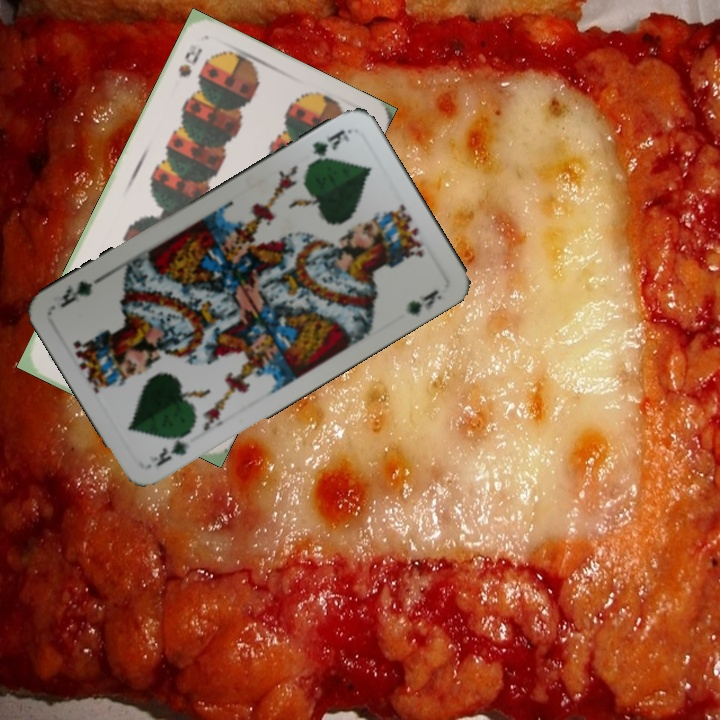GK: (145, 425, 195, 470), (308, 125, 353, 159)
S8: (174, 44, 205, 80)
